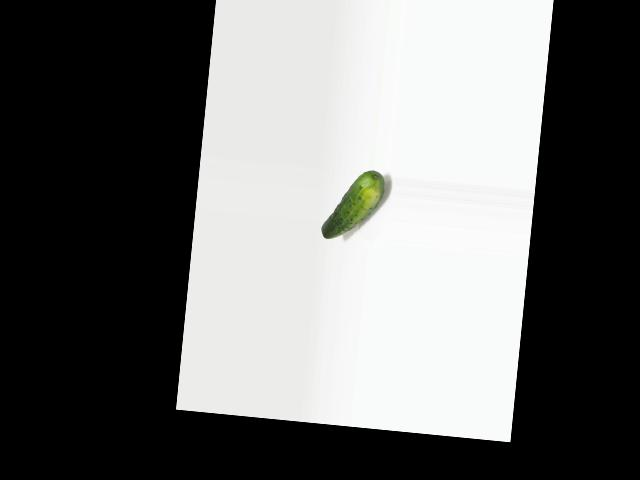cucumber: (320, 166, 385, 244)
